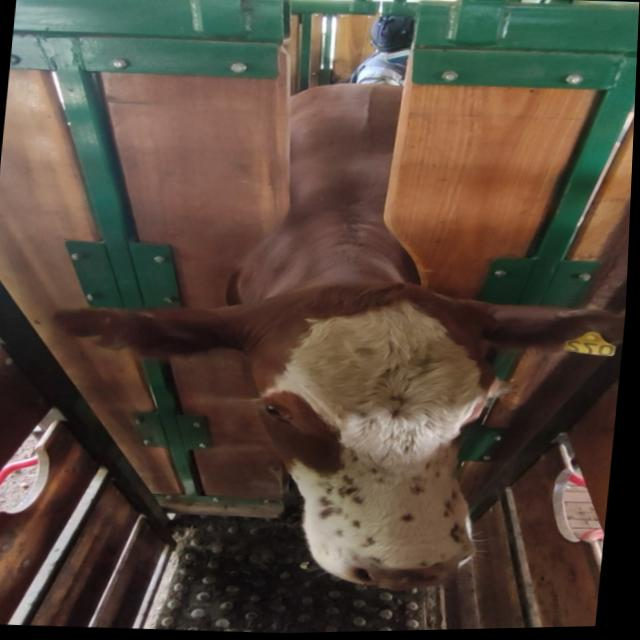cowFace: (237, 279, 511, 597)
